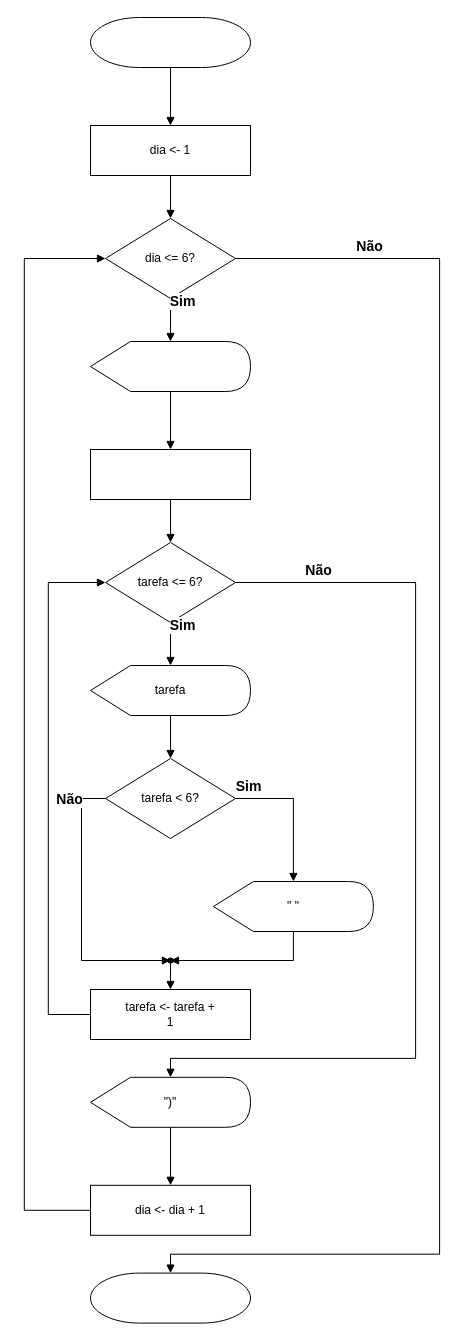
This 466x1341 diagram has some shape labels left out. Here are the shapes that lost their labels. From the top down, the centre of each, then its label:
the point at 170,42: Início
the point at 170,366: "(" + dia + ", "
the point at 170,474: tarefa <- 1
the point at 170,1297: Fim
